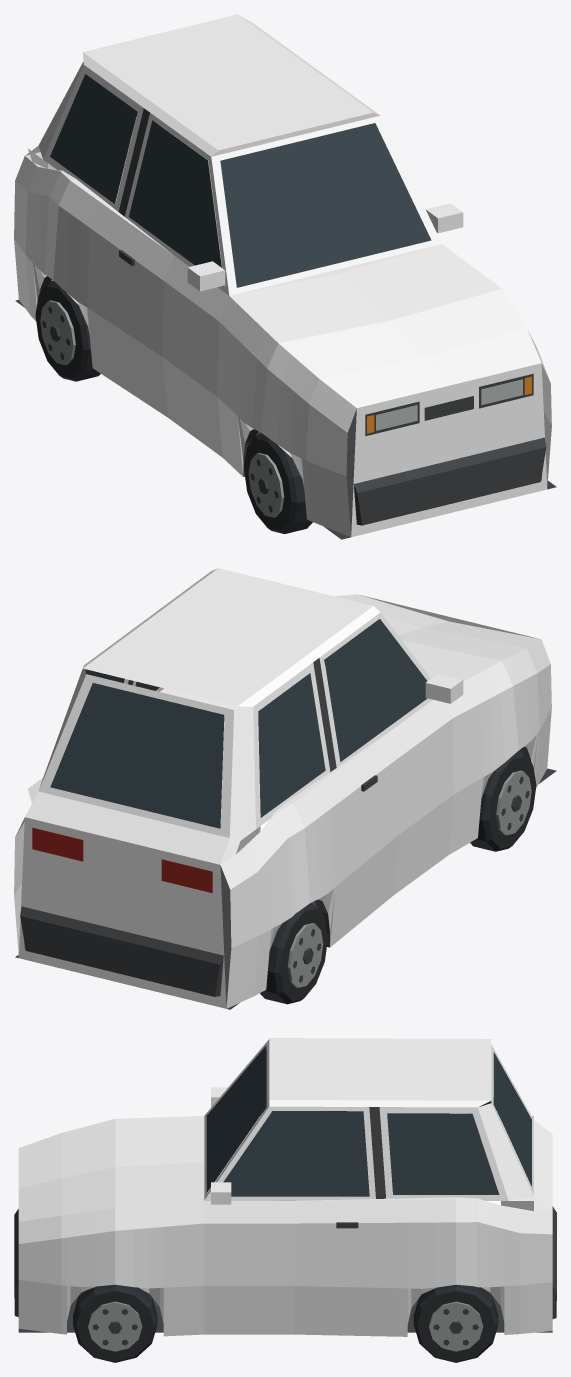
The model's file is ashcombe_wren.glb.
3 views of the same model, one above another, from view 1: azimuth 30°, elevation 25°; view 2: azimuth 150°, elevation 25°; view 3: azimuth 270°, elevation 25° (orthographic). The views are drawn at different scales.
Parts seen in each view (by area): view 1: ashcombe_wren; view 2: ashcombe_wren; view 3: ashcombe_wren.
Boxes of the visible parts, <box> form: ashcombe_wren: <box>14,14,556,539</box>; ashcombe_wren: <box>14,568,556,1009</box>; ashcombe_wren: <box>14,1038,556,1362</box>.
Size of the model in its own units: 1.47 by 1.61 by 3.2.
Materials: 8 (1 with a texture image).
